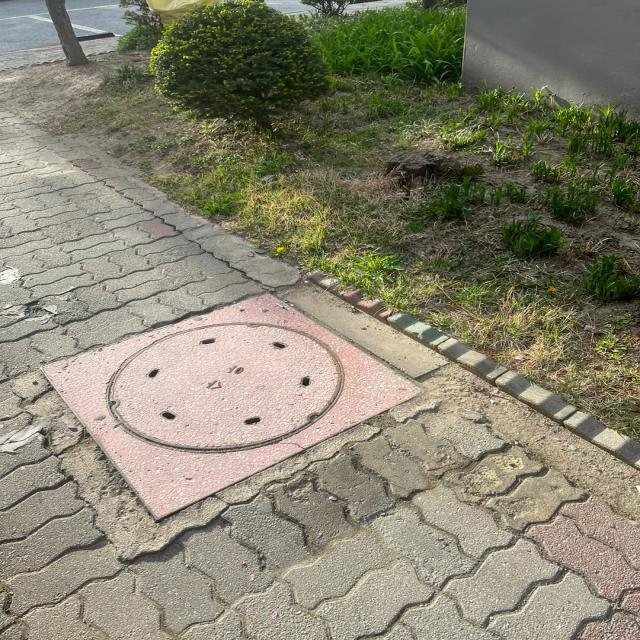manhole: (44, 294, 418, 518)
